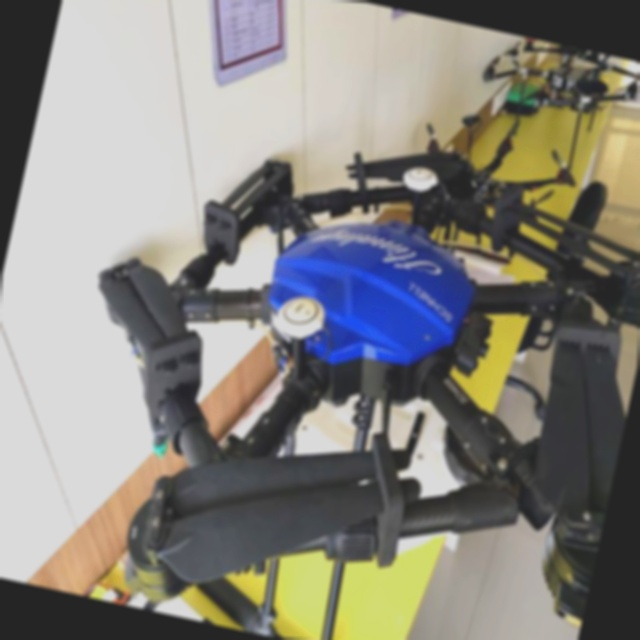agriculturedrone: (6, 56, 640, 640)
